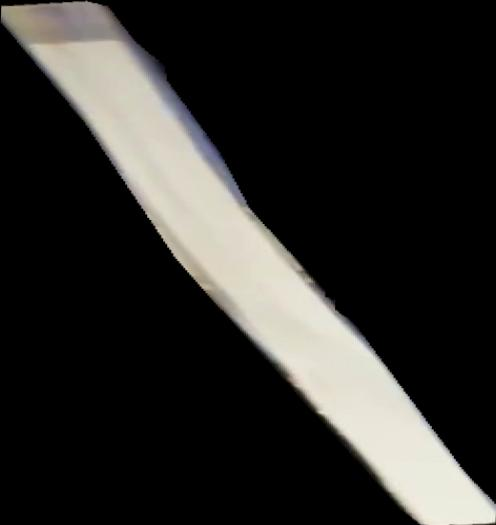backward: (1, 1, 496, 525)
